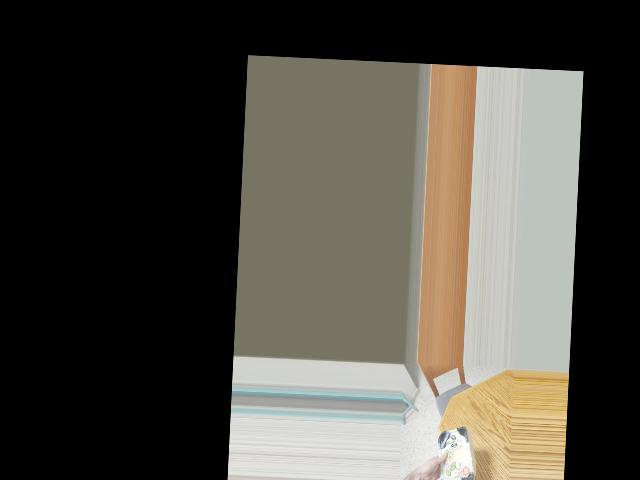cheese: (433, 424, 470, 480)
